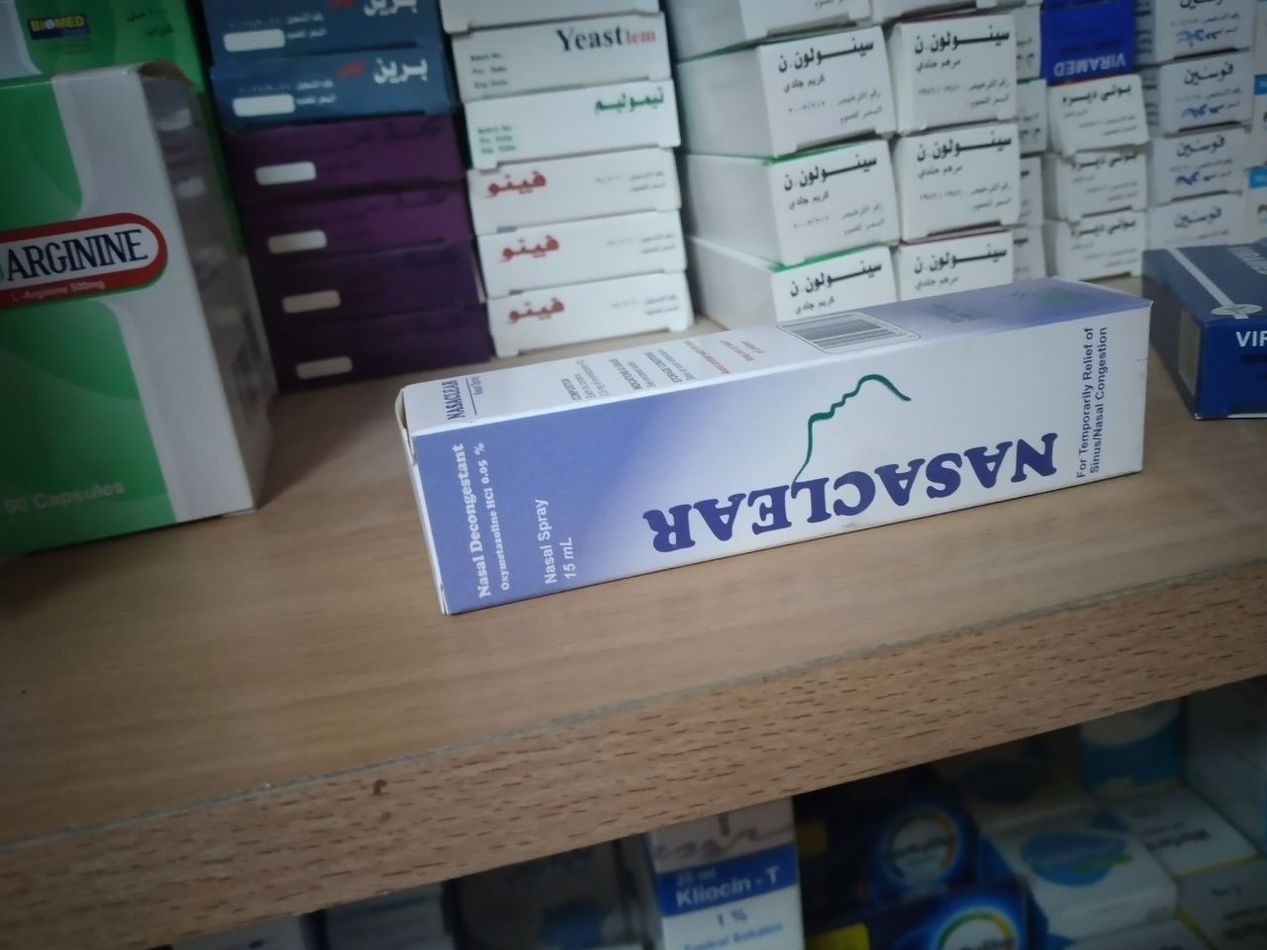Medicine: (393, 272, 1161, 626)
